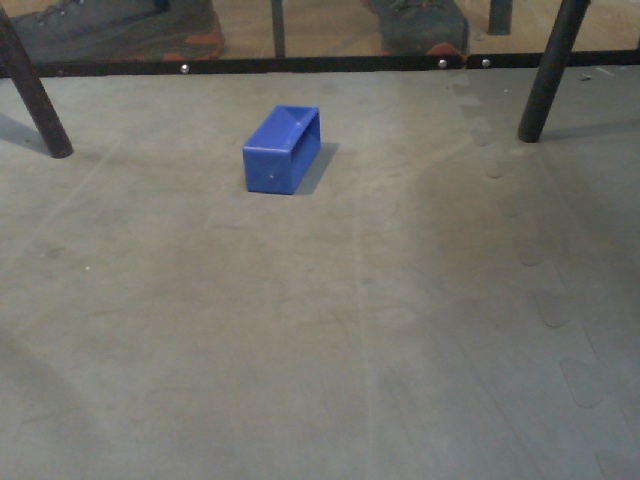BlueSample: (241, 105, 324, 200)
